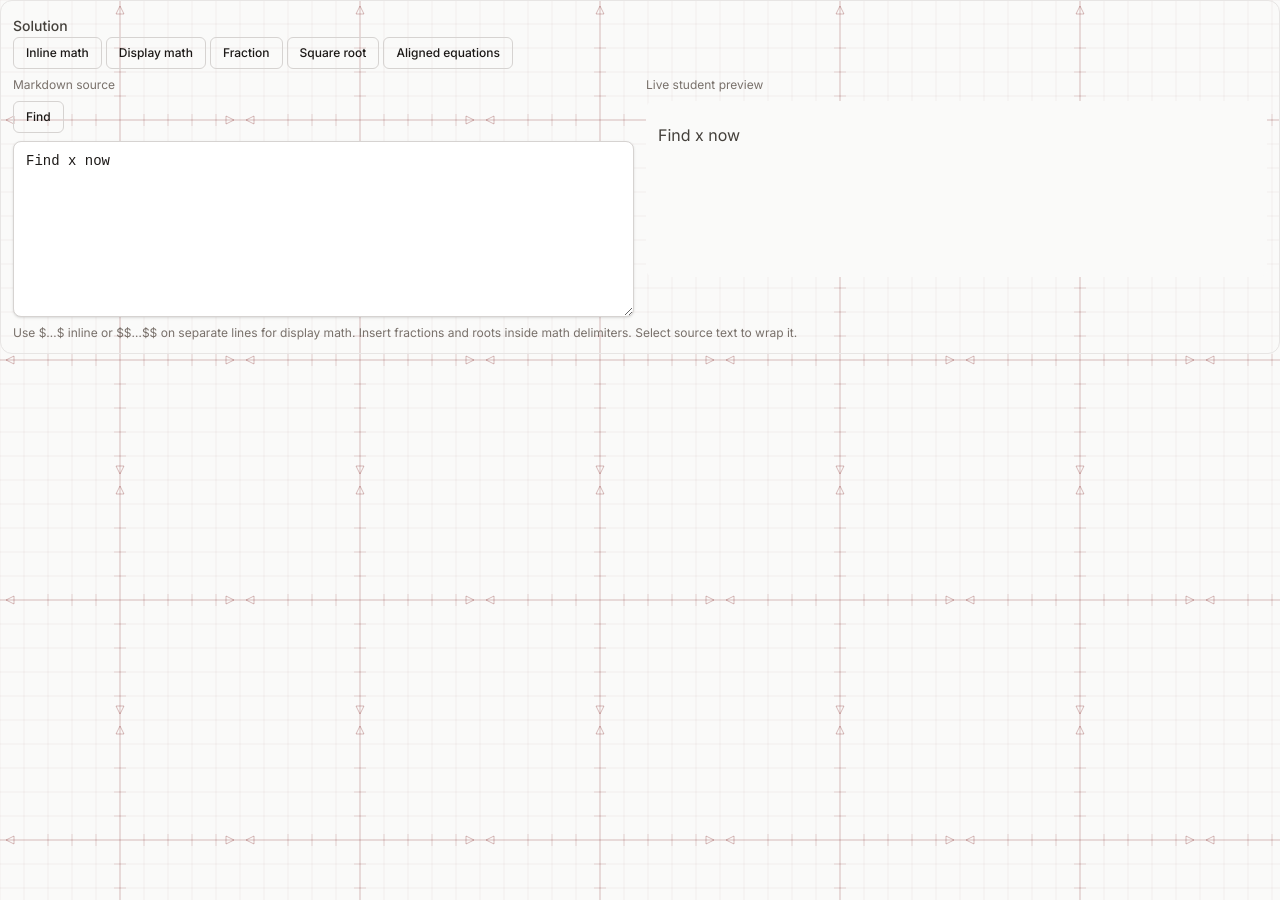
Test: MathEditor › wraps selected source without replacing surrounding content
This screenshot has width=1280, height=900.
Click the button "Inline math" at [57, 53], box [13, 37, 102, 69]
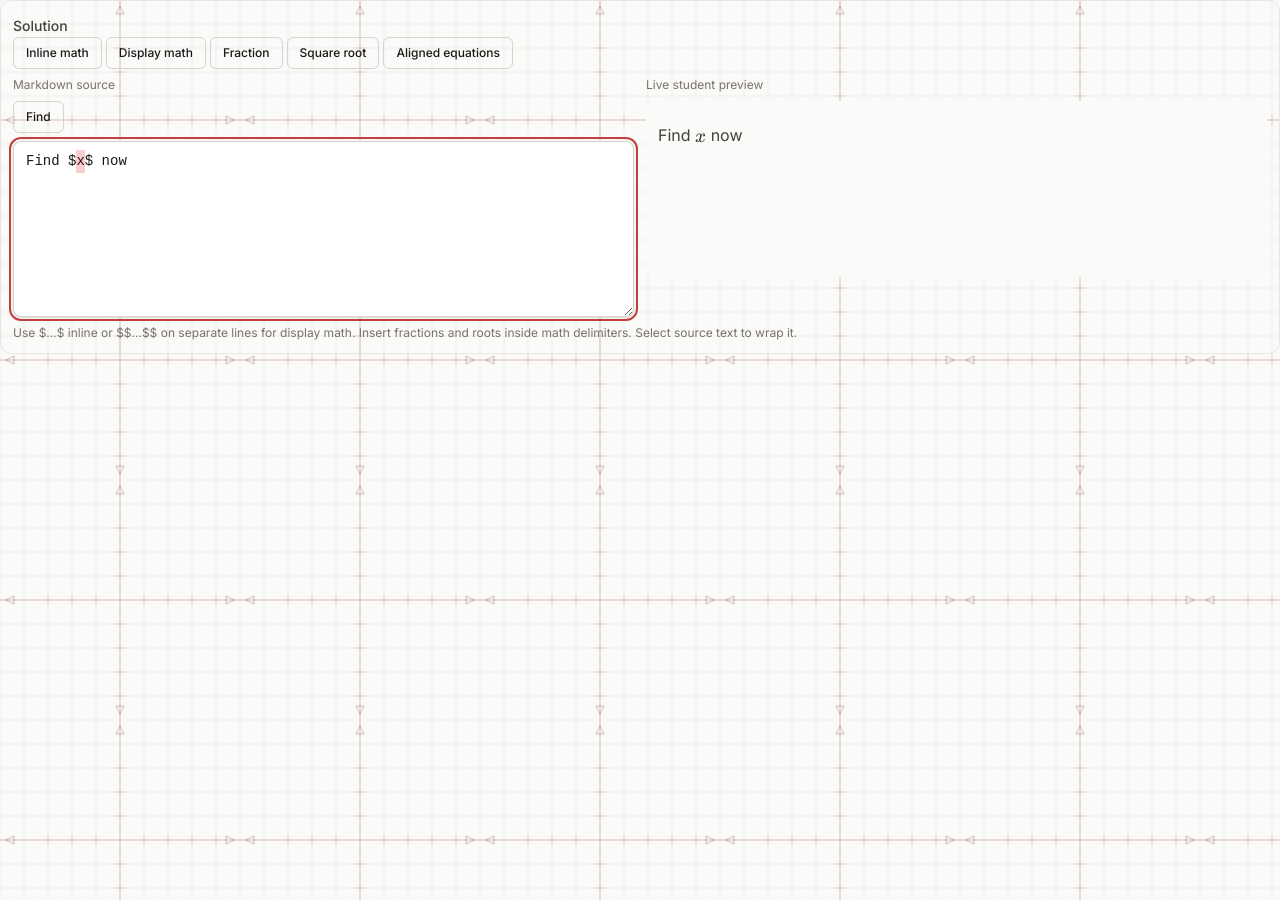
expect the text box holds "Find $x$ now": met, box [13, 141, 634, 317]
